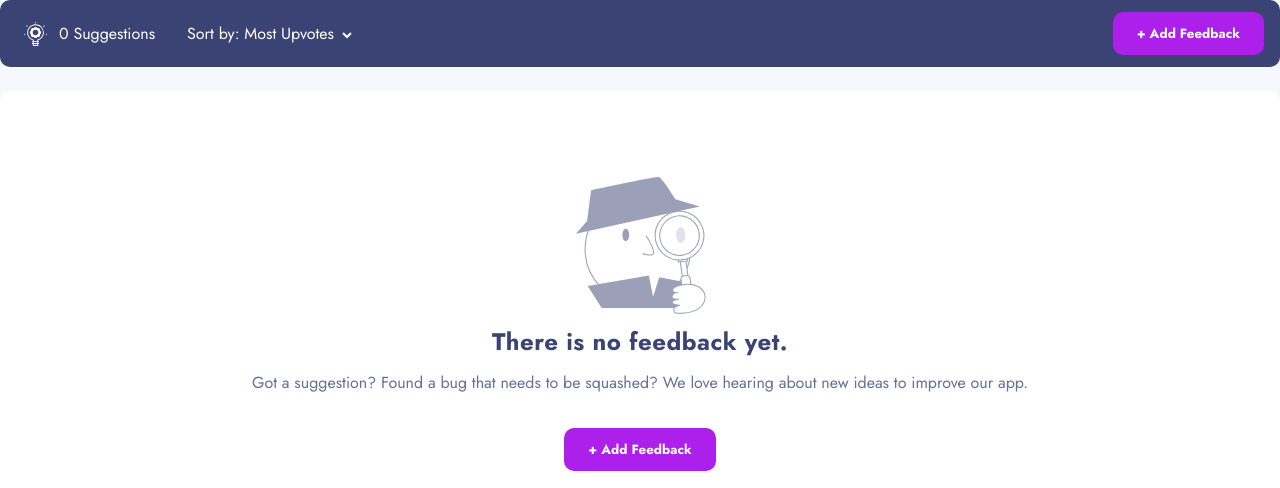
Test: SuggestionsContent › sort dropdown returns correct value on click
Click the button titled "sort-button": click(347, 34) [342,25,352,44]
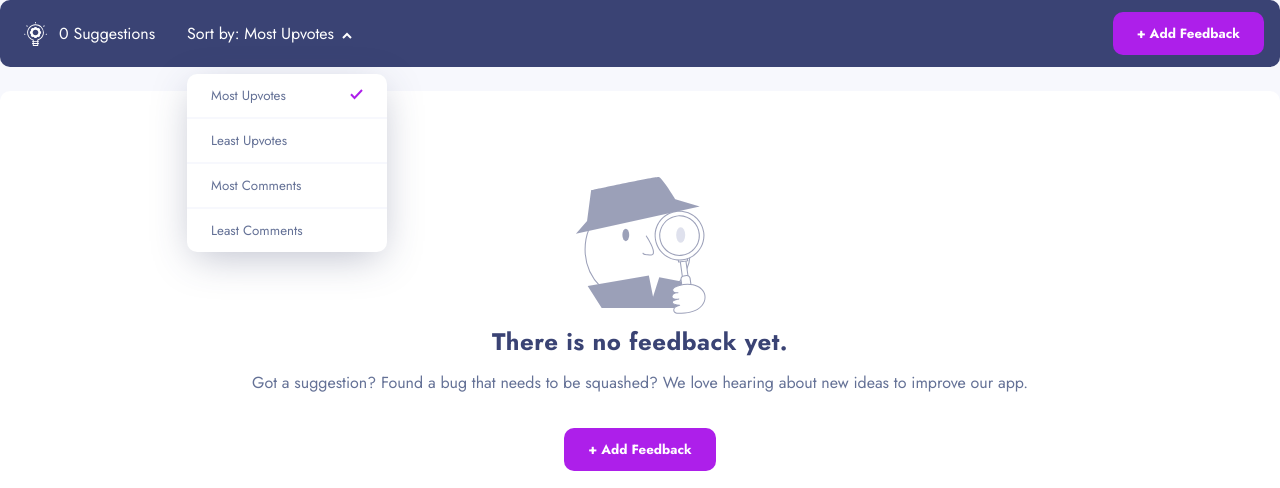
Click the button titled "Least Comments": click(287, 231) [187,209,387,252]
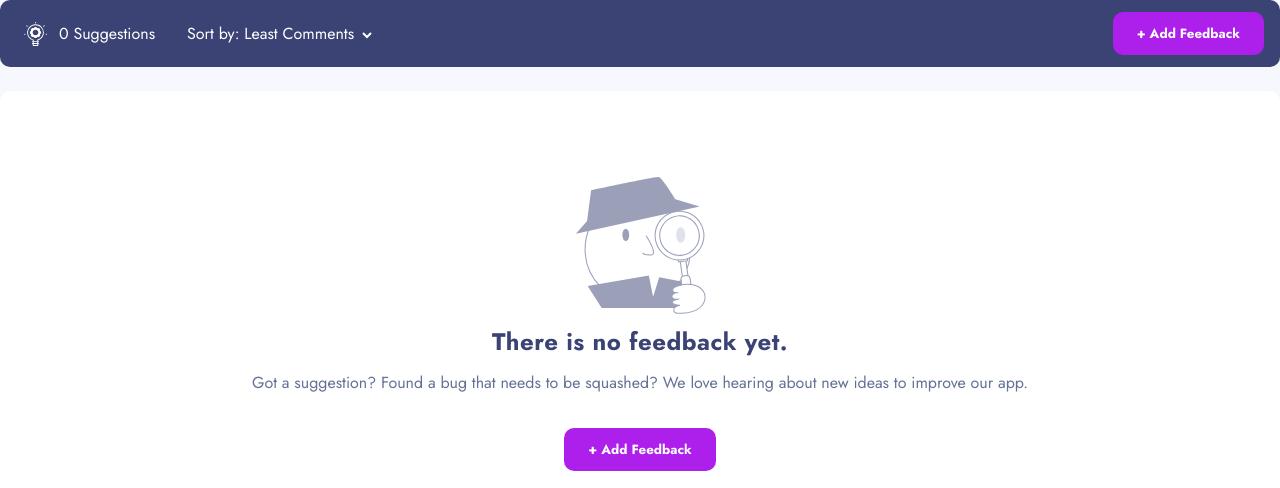
Expected: the text with test id "sort-value" reads "Least Comments", [244,22,354,45]
Click the button titled "sort-button": click(367, 34) [362,25,372,44]
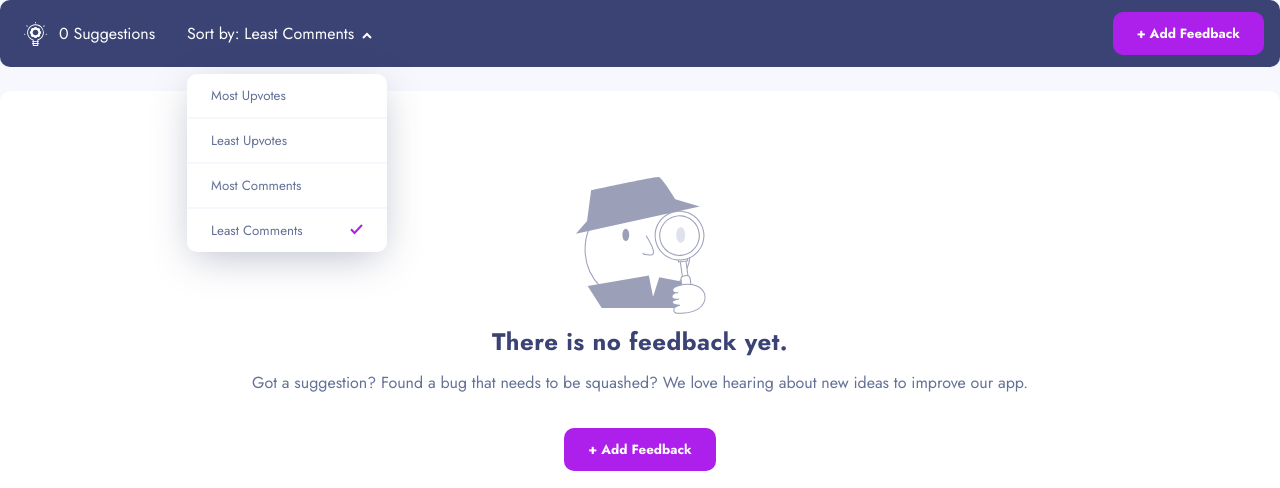
Click the button titled "Least Upvotes": click(287, 142) [187,119,387,164]
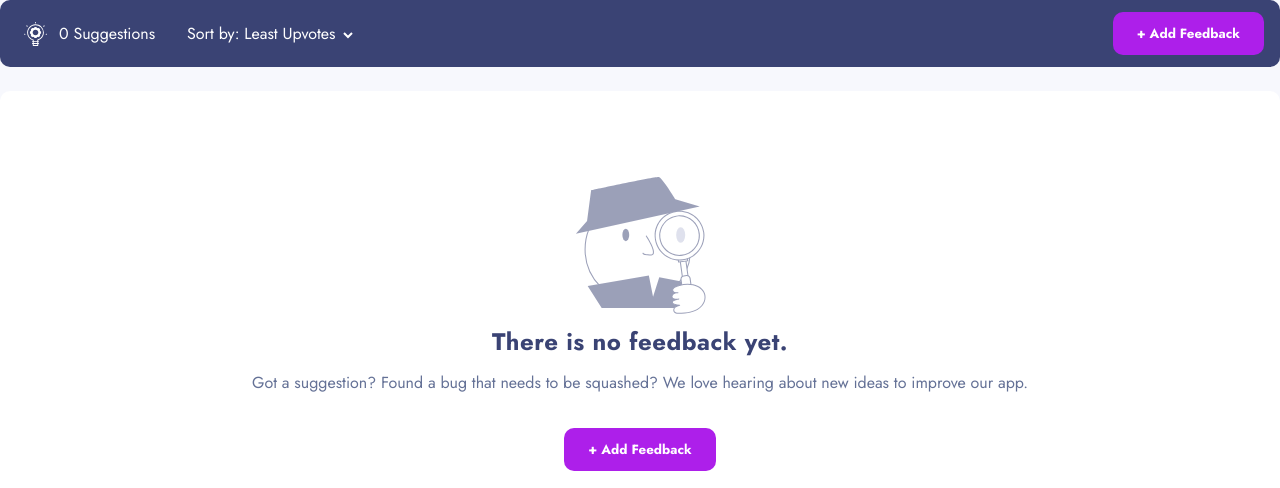
Expected: the text with test id "sort-value" reads "Least Upvotes", [244,22,336,45]
